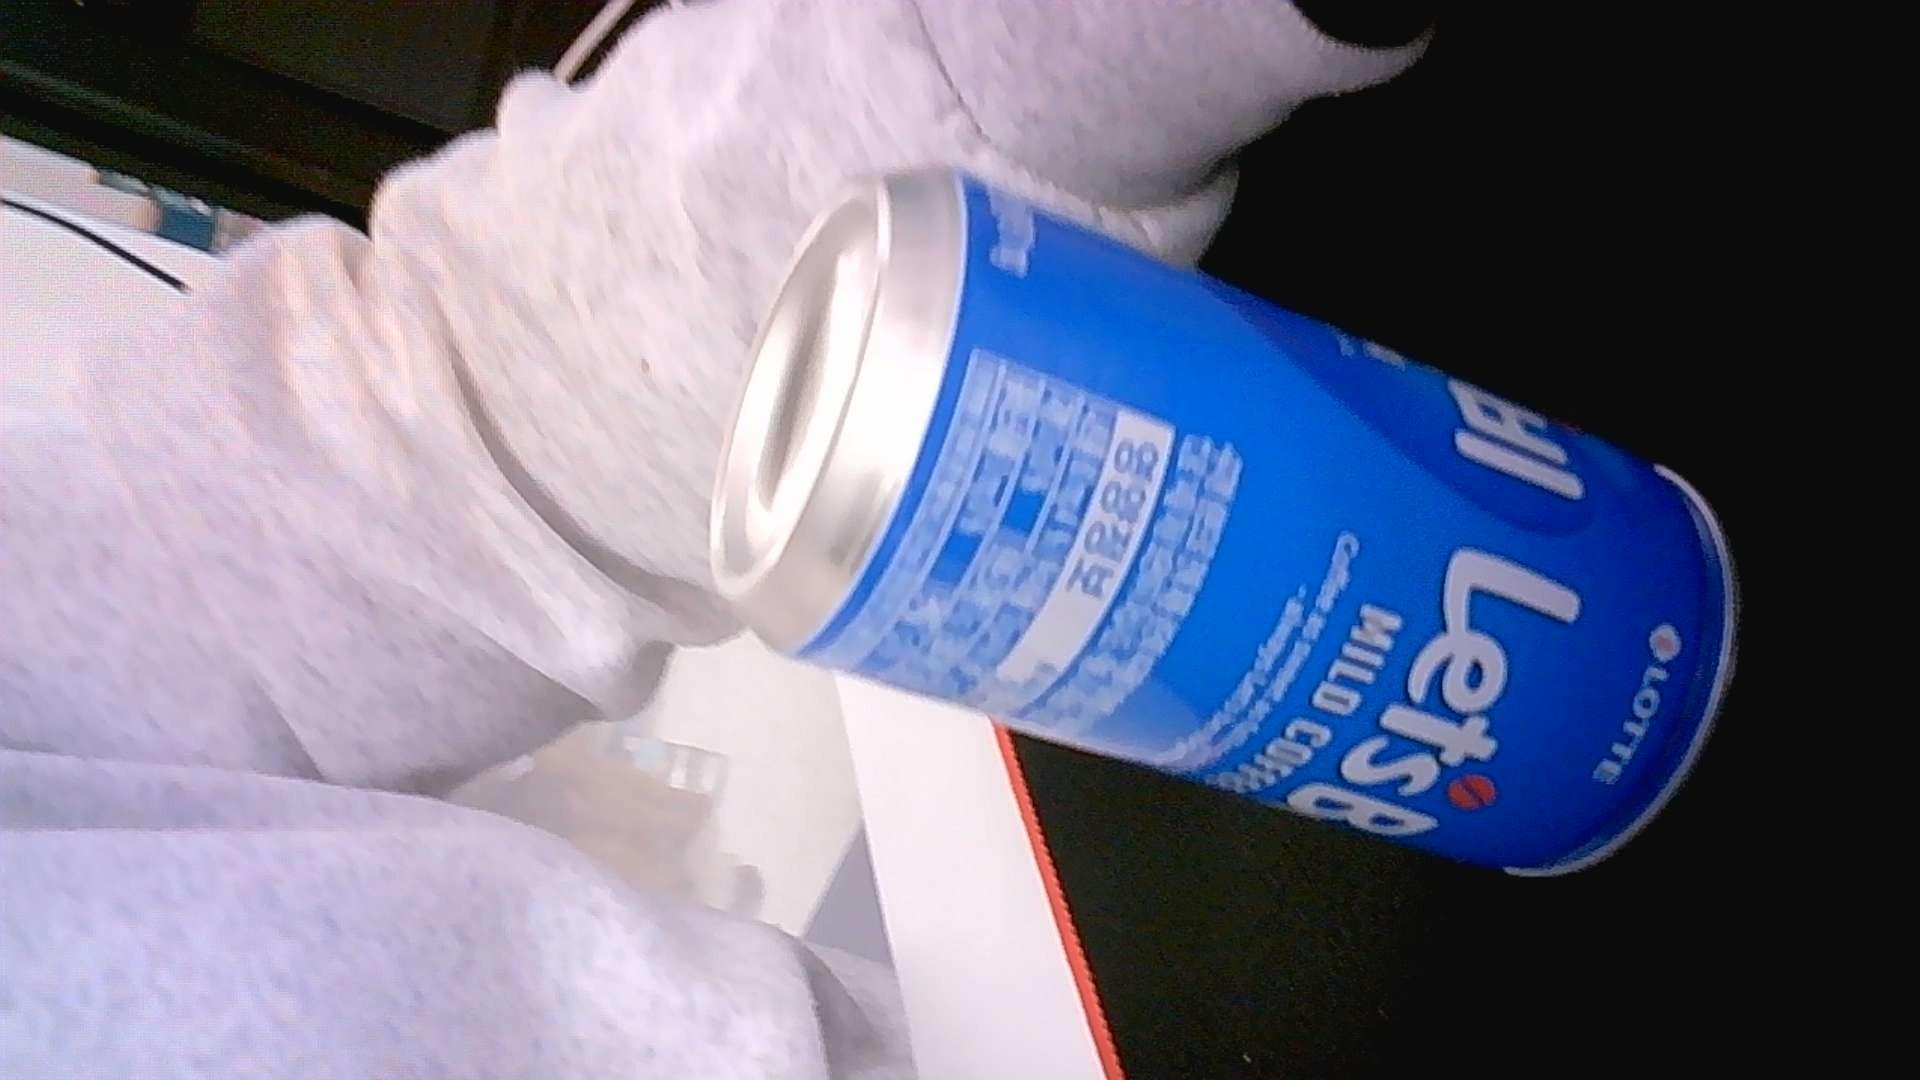letsbe: (708, 164, 1741, 884)
